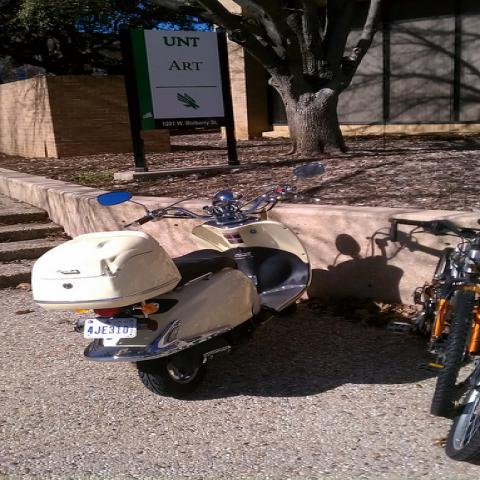motorcycle: (32, 163, 328, 398)
